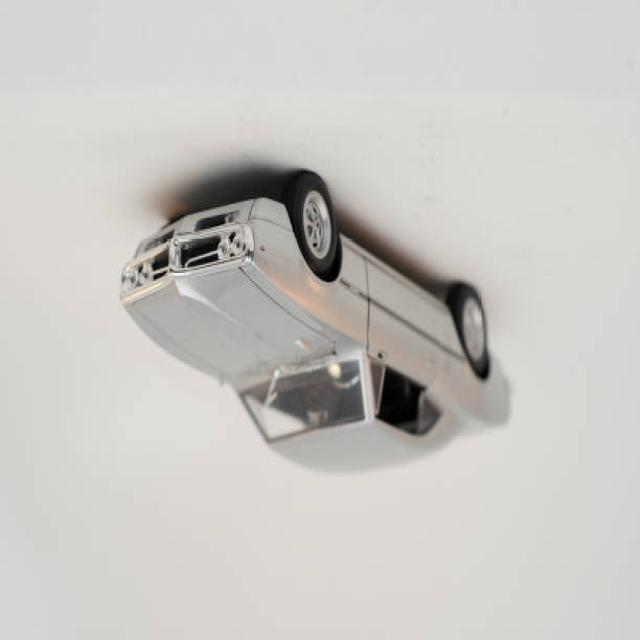Car: (119, 171, 512, 478)
